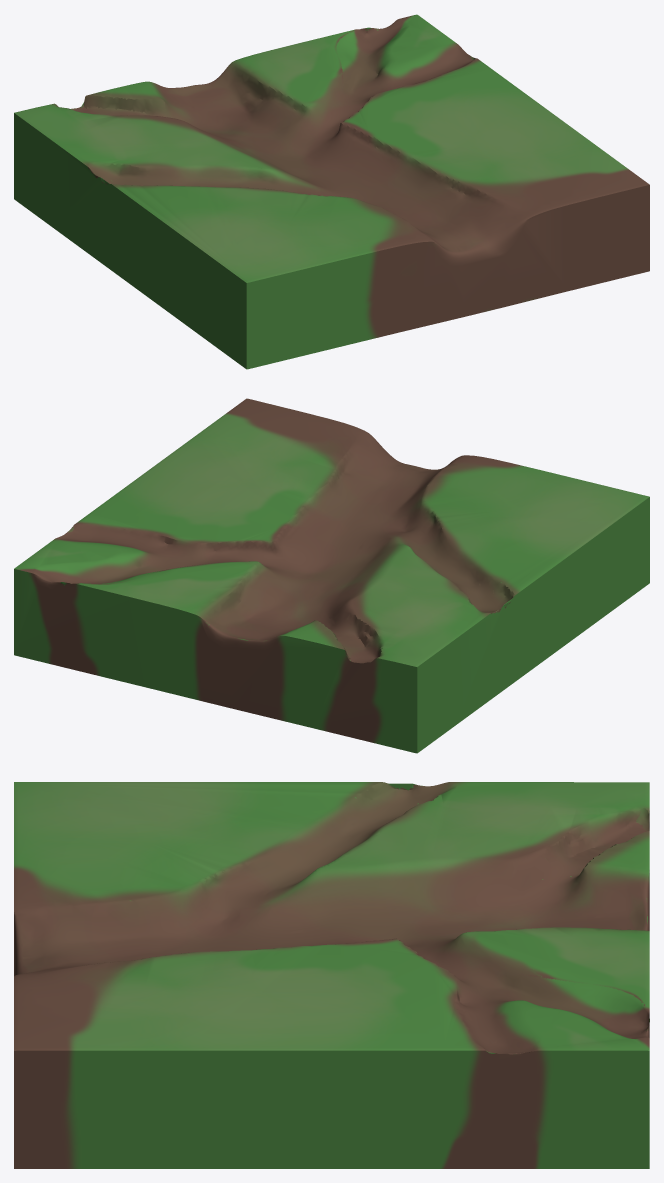
Rendered from TerrenoEscena8.fbx.
3 views of the same model, one above another, from view 1: azimuth 30°, elevation 25°; view 2: azimuth 150°, elevation 25°; view 3: azimuth 270°, elevation 25° (orthographic). The views are drawn at different scales.
Parts seen in each view (by area): view 1: Cube.003; view 2: Cube.003; view 3: Cube.003.
Boxes of the visible parts, x1=… form: Cube.003: x1=14, y1=14, x2=649, y2=369; Cube.003: x1=14, y1=398, x2=649, y2=753; Cube.003: x1=14, y1=782, x2=649, y2=1168.
Bounding box in the file's own units: 200 × 41.92 × 200.
Materials: 1 (1 with a texture image).
